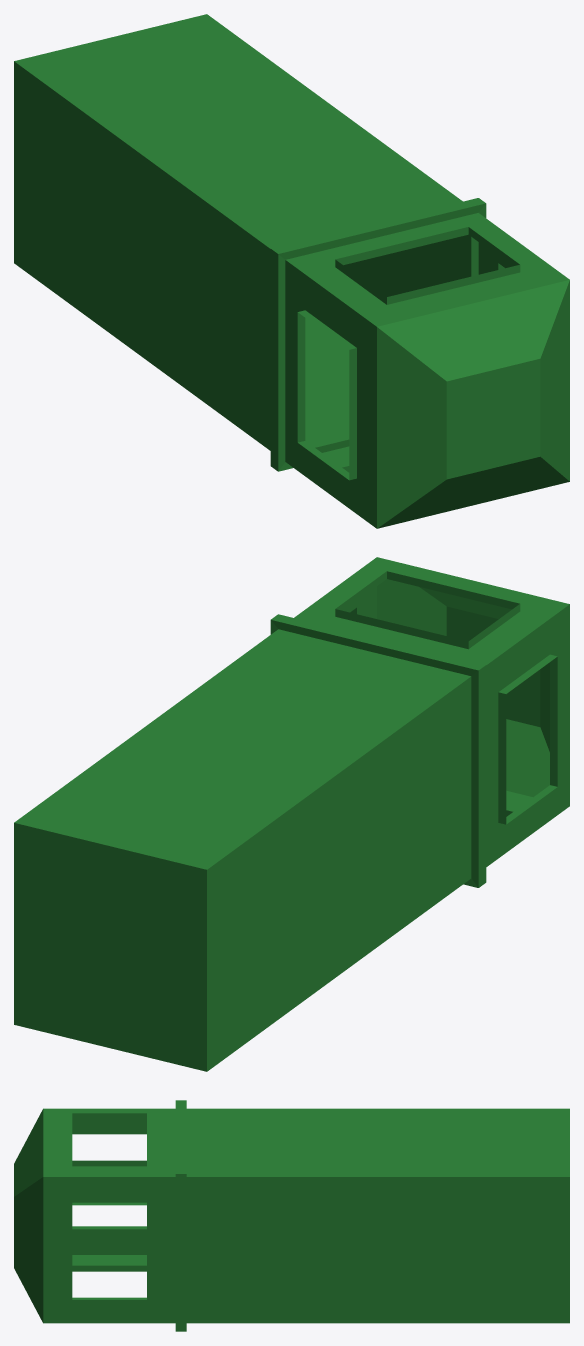
The model's file is AG_Basurero.fbx.
The picture shows the model from 3 angles, top to bottom: view 1: azimuth 30°, elevation 25°; view 2: azimuth 150°, elevation 25°; view 3: azimuth 270°, elevation 25°; orthographic projection. The views are drawn at different scales.
Visible parts, largest first — view 1: TachoBasura; view 2: TachoBasura; view 3: TachoBasura.
Boxes of the visible parts, x1=… form: TachoBasura: x1=14, y1=14, x2=569, y2=528; TachoBasura: x1=14, y1=557, x2=569, y2=1071; TachoBasura: x1=14, y1=1100, x2=569, y2=1331.
Bounding box in the file's own units: 216 × 216 × 687.
